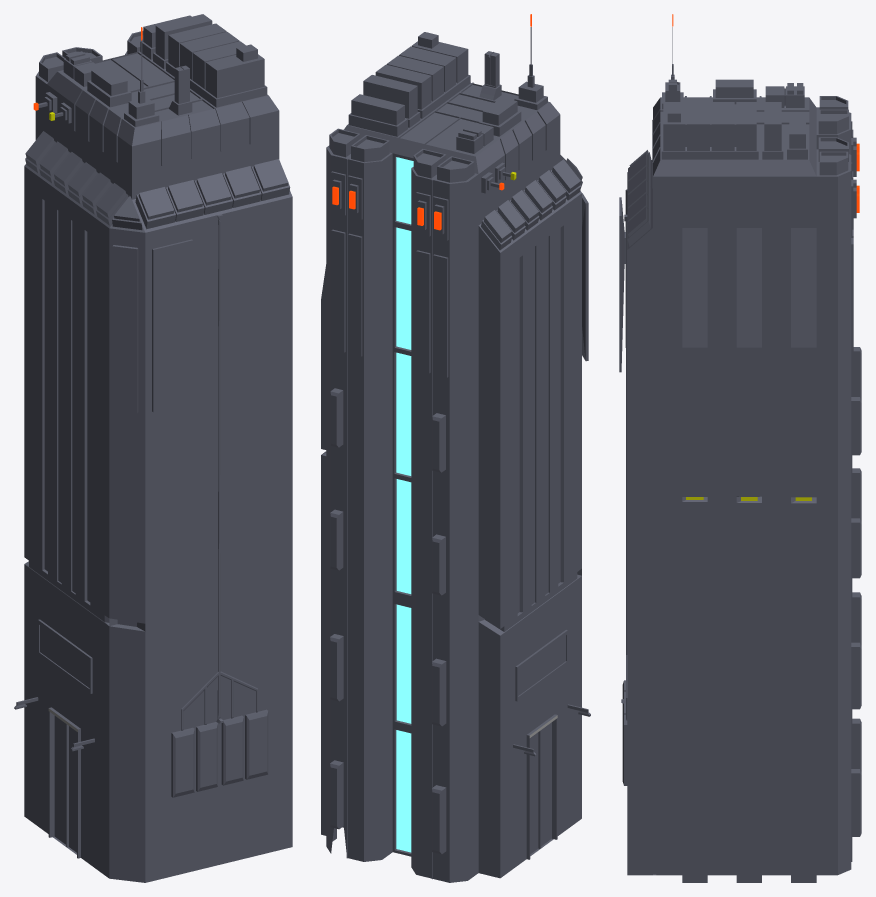
The model's file is Building1_a.fbx.
3 renders of one model, left to right at view 1: azimuth 30°, elevation 25°; view 2: azimuth 150°, elevation 25°; view 3: azimuth 270°, elevation 25°, orthographic. The views are drawn at different scales.
Parts seen in each view (by area): view 1: Cube; view 2: Cube; view 3: Cube.
Boxes of the visible parts, box(x1,y1,x2,y2) form: Cube: box(14, 14, 292, 882); Cube: box(321, 14, 590, 882); Cube: box(619, 14, 861, 882).
Bounding box in the file's own units: 38.87 × 148 × 40.51.
